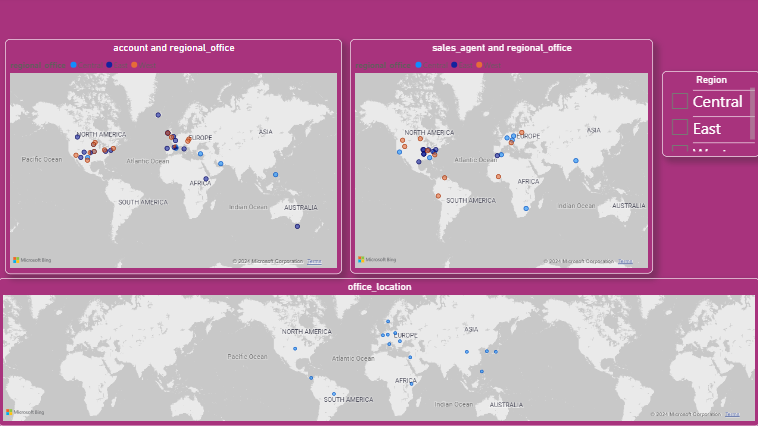

Layout of this report page (visuals, bound fields, positions):
{"tool":"powerbi","page":{"name":"Page 2","canvas":[1280,720],"ordinal":1},"visuals":[{"type":"map","fields":{"Series":["sales_teams.regional_office"],"Category":["sales_pipeline.account"]},"box":[11.8,70.6,566.1,394.8],"z":0},{"type":"map","fields":{"Series":["sales_teams.regional_office"],"Category":["sales_pipeline.sales_agent"]},"box":[591.3,70.6,509,394],"z":1},{"type":"map","fields":{"Category":["accounts.office_location"]},"box":[0,472,1280,248.6],"z":2},{"type":"slicer","title":"Region","fields":{"Values":["sales_teams.regional_office"]},"box":[1115.4,124.3,164.6,144.5],"z":3}]}

Visuals, with their boxes in screenshot pixels (x1, y1, x2, y2), scaled from the page's 1280x720 canvas onto the 758x426 screenshot:
map - sales_teams.regional_office x sales_pipeline.account: bbox=(7, 42, 342, 275)
map - sales_teams.regional_office x sales_pipeline.sales_agent: bbox=(350, 42, 652, 275)
map - accounts.office_location: bbox=(0, 279, 757, 425)
"Region" slicer: bbox=(661, 74, 757, 159)
